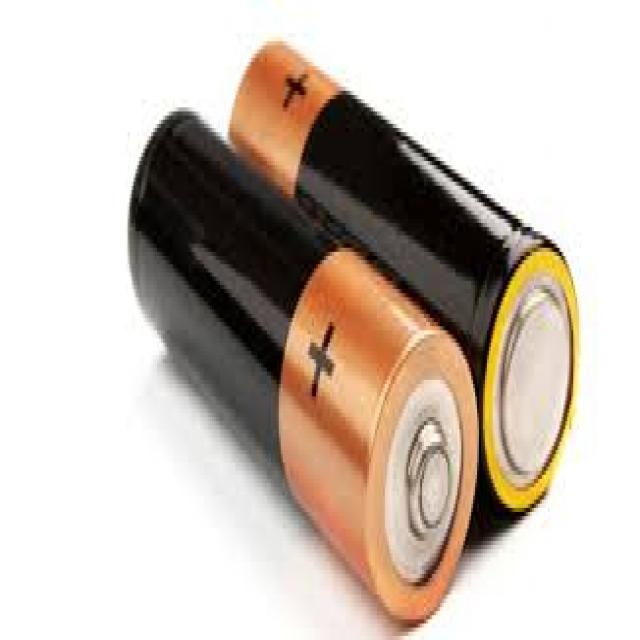non-organic waste: (127, 109, 481, 624), (228, 34, 580, 514)
